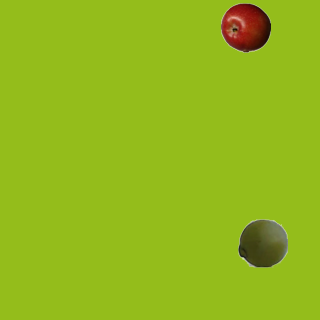Apple Braeburn: (220, 2, 270, 52)
Grape White 4: (237, 217, 287, 267)
